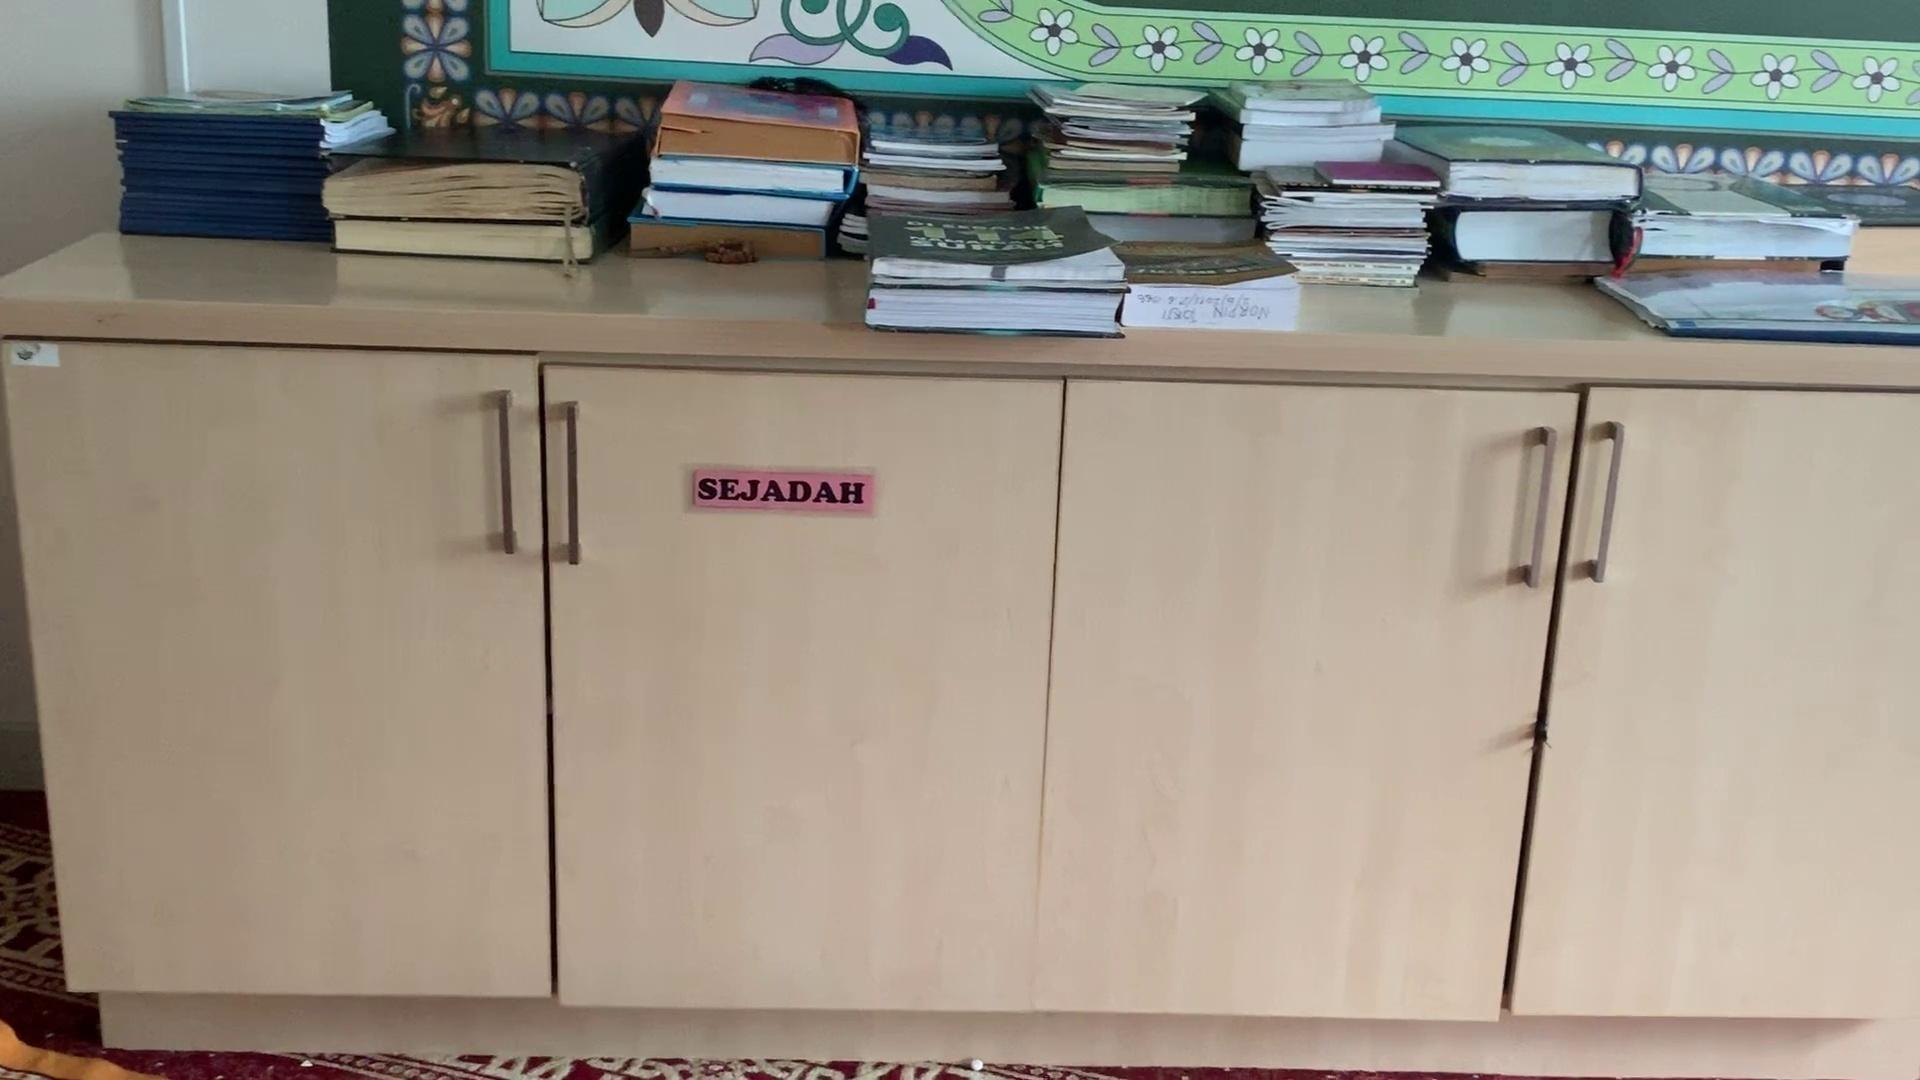cabinet_door: (40, 347, 549, 996), (554, 372, 1039, 1013), (1064, 390, 1544, 1027), (1565, 394, 1920, 1027)
handle: (1586, 418, 1654, 587), (462, 390, 525, 568), (1502, 419, 1565, 589), (546, 397, 592, 567)
